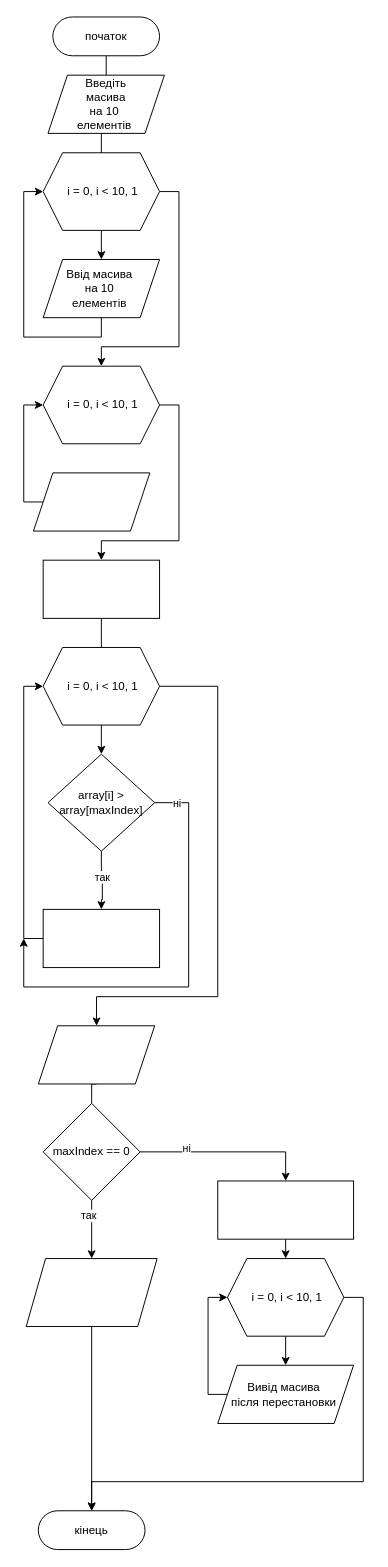
This 388x1567 diagram has some shape labels left out. Here are the shapes that lost their labels. From the top down, the centre of each, then its label:
the point at 91,501: Вивід масива на 10 елементів
the point at 101,588: Ініціалізація maxIndex = 0
the point at 101,938: maxIndex = i
the point at 96,1054: Вивід максимального елементу
the point at 285,1209: int temp = array[0]; array[0]=array[maxIndex]; array[maxIndex] = temp;
the point at 91,1292: Перший елемент вже максимальний
